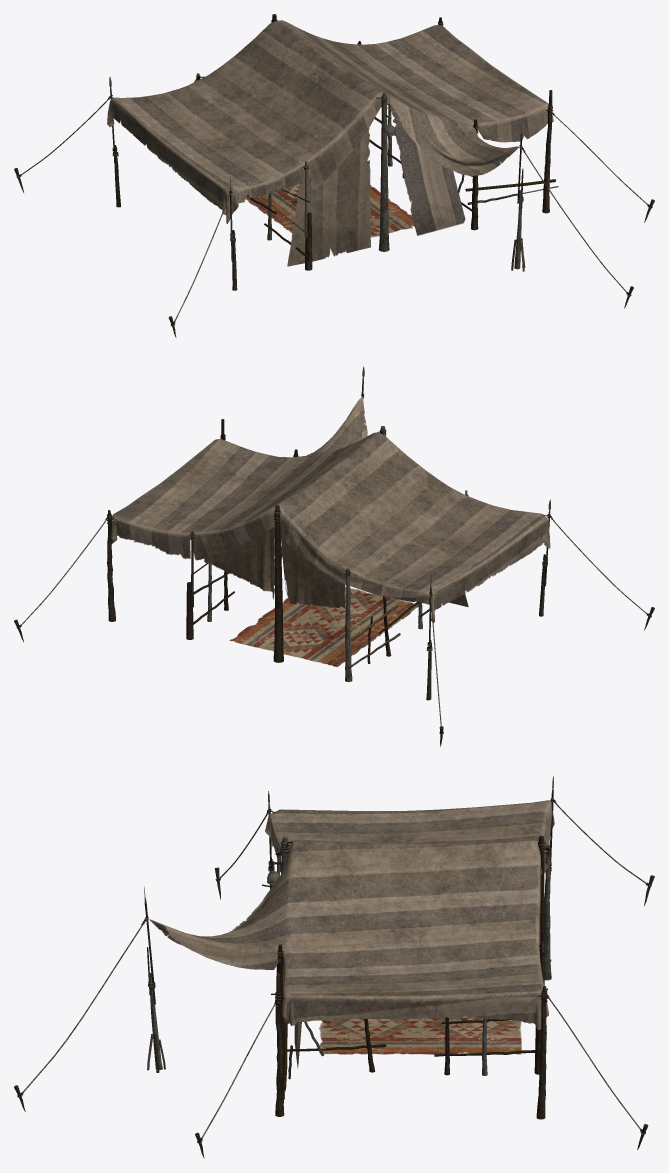
The model's file is medieval_tent.glb.
The picture shows the model from 3 angles, top to bottom: view 1: azimuth 30°, elevation 25°; view 2: azimuth 150°, elevation 25°; view 3: azimuth 270°, elevation 25°; orthographic projection. The views are drawn at different scales.
Parts seen in each view (by area): view 1: defaultMaterial (×2); view 2: defaultMaterial (×2); view 3: defaultMaterial (×2).
Boxes of the visible parts, x1=… form: defaultMaterial (×2): x1=14, y1=14, x2=654, y2=337; defaultMaterial (×2): x1=14, y1=366, x2=654, y2=746; defaultMaterial (×2): x1=14, y1=776, x2=654, y2=1158.
Size of the model in its own units: 112 by 37.57 by 110.
Materials: 2 (2 with a texture image).
